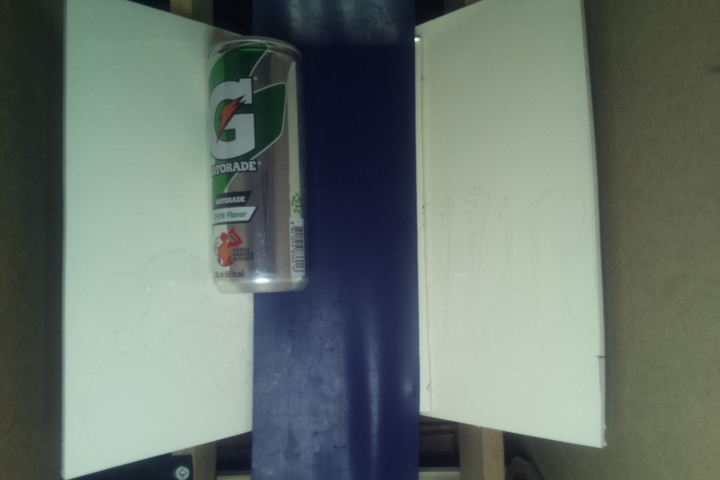can: (204, 38, 309, 296)
